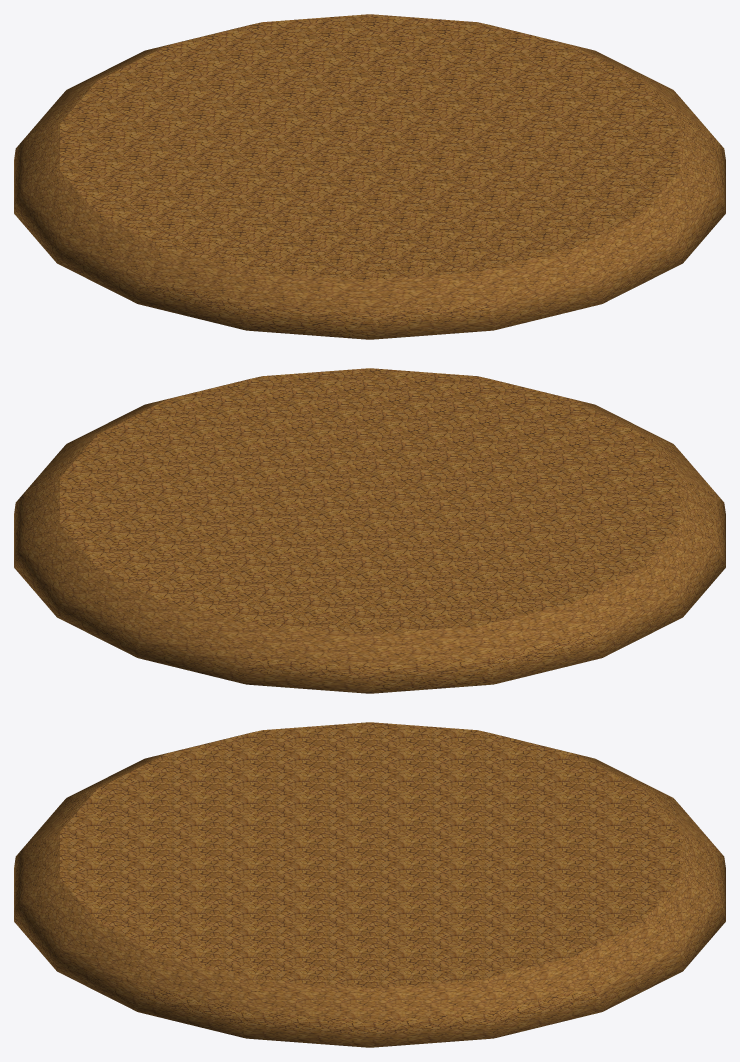
Rendered from Ground.FBX.
3 renders of one model, top to bottom at view 1: azimuth 30°, elevation 25°; view 2: azimuth 150°, elevation 25°; view 3: azimuth 270°, elevation 25°, orthographic.
Visible parts, largest first — view 1: ground; view 2: ground; view 3: ground.
Boxes of the visible parts, left/top/right/bottom form: ground: left=14, top=14, right=725, bottom=339; ground: left=14, top=368, right=725, bottom=693; ground: left=14, top=722, right=725, bottom=1047.
Size of the model in its own units: 9141 by 855 by 9002.
Materials: 1 (1 with a texture image).
